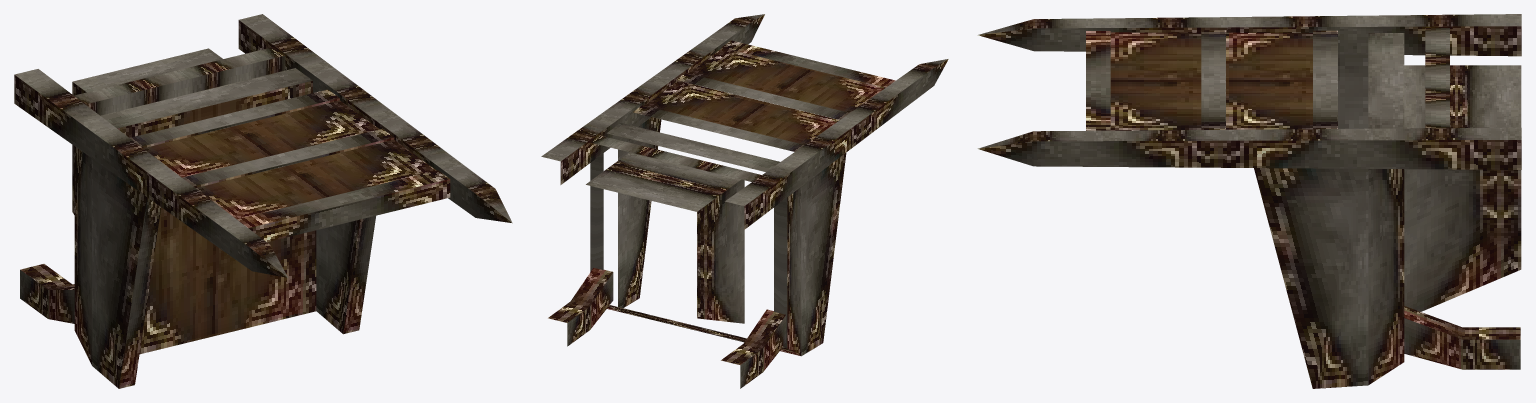
The model's file is Fort16.glb.
3 renders of one model, left to right at view 1: azimuth 30°, elevation 25°; view 2: azimuth 150°, elevation 25°; view 3: azimuth 270°, elevation 25°, orthographic. The views are drawn at different scales.
Visible parts, largest first — view 1: model_Fort16; view 2: model_Fort16; view 3: model_Fort16.
Part boxes in pixels (<box>): model_Fort16: <box>14,14,512,388</box>; model_Fort16: <box>541,14,948,388</box>; model_Fort16: <box>977,14,1521,388</box>.
Size of the model in its own units: 0.9873 by 0.9184 by 1.8.
2 materials, 2 textured.
